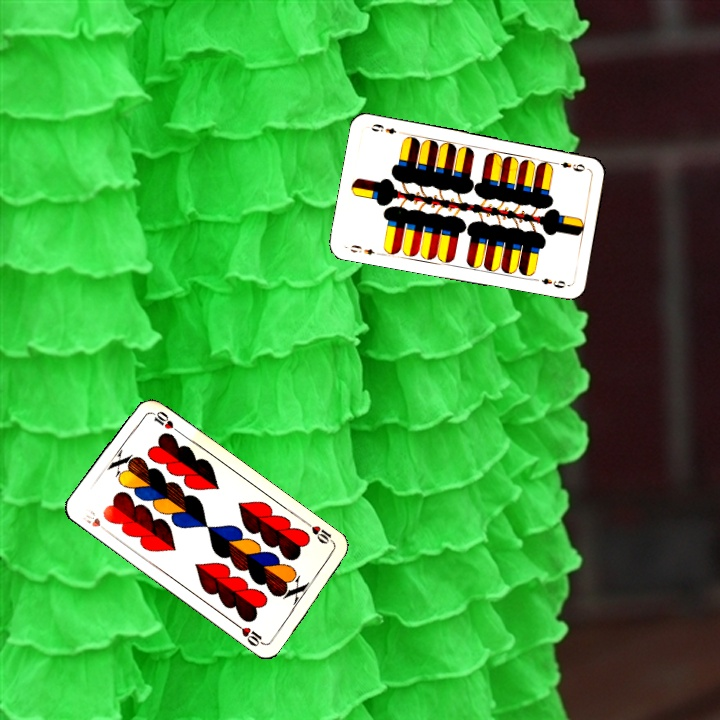E9: (347, 241, 383, 258), (550, 158, 588, 174)
H10: (77, 506, 112, 536), (302, 518, 337, 547)
